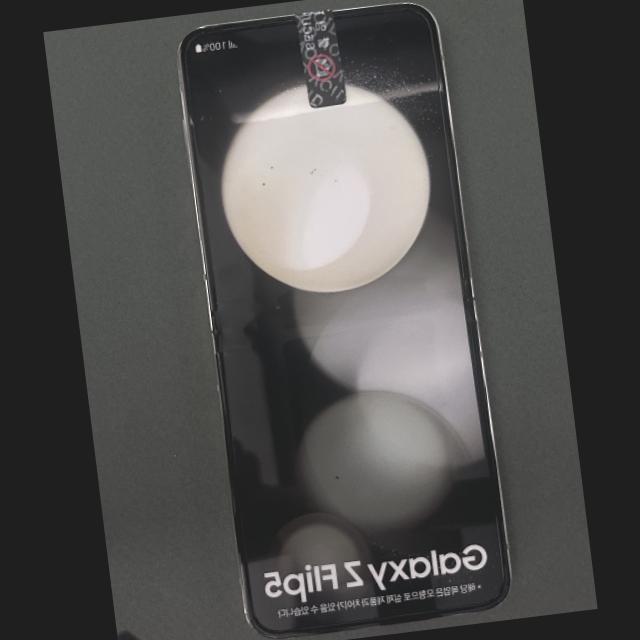phone: (178, 4, 508, 636)
sticker: (294, 8, 346, 108)
